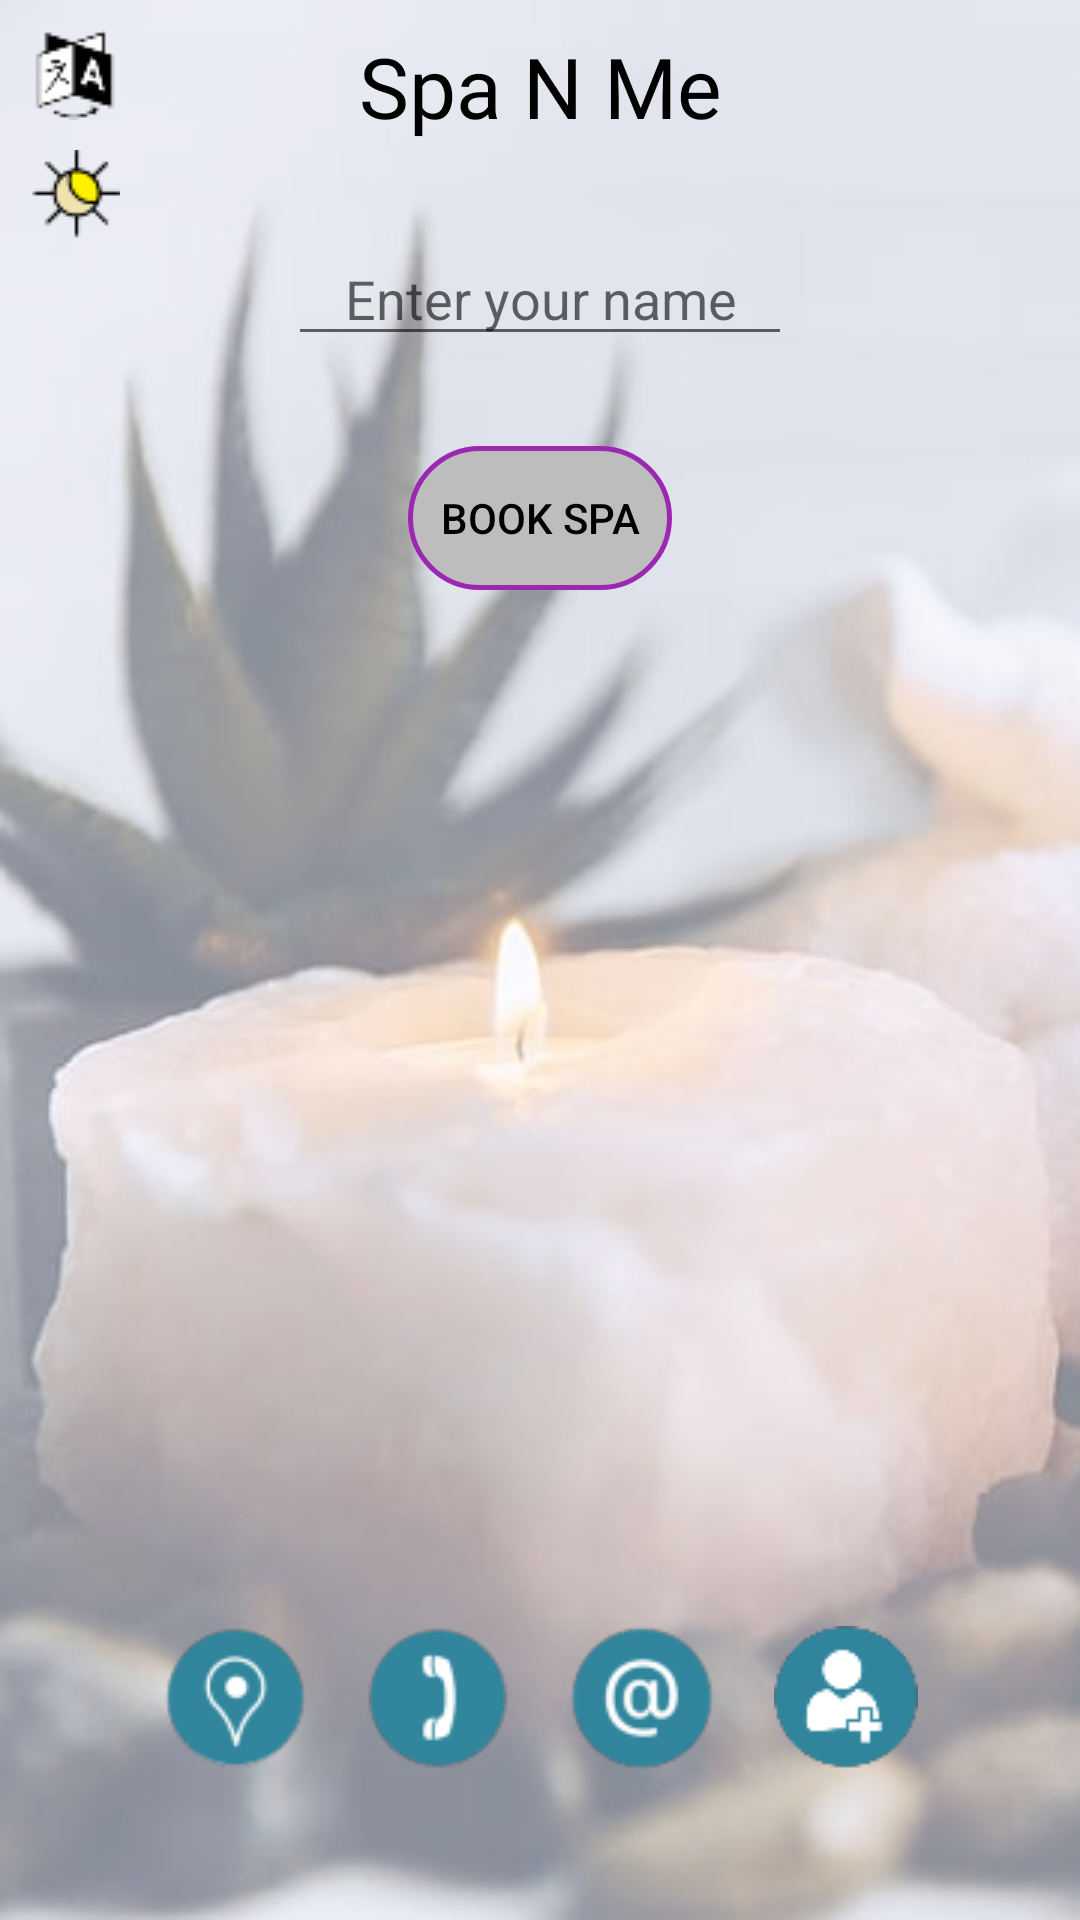

Icon bounding boxes for this 1080px×1920px phone screenshot, format [left=x1, top=y1, right=x2, bottom=y2]:
add: [left=744, top=1596, right=948, bottom=1800]
call: [left=369, top=1629, right=507, bottom=1768]
lang: [left=36, top=32, right=114, bottom=120]
navigate: [left=132, top=1629, right=304, bottom=1800]
